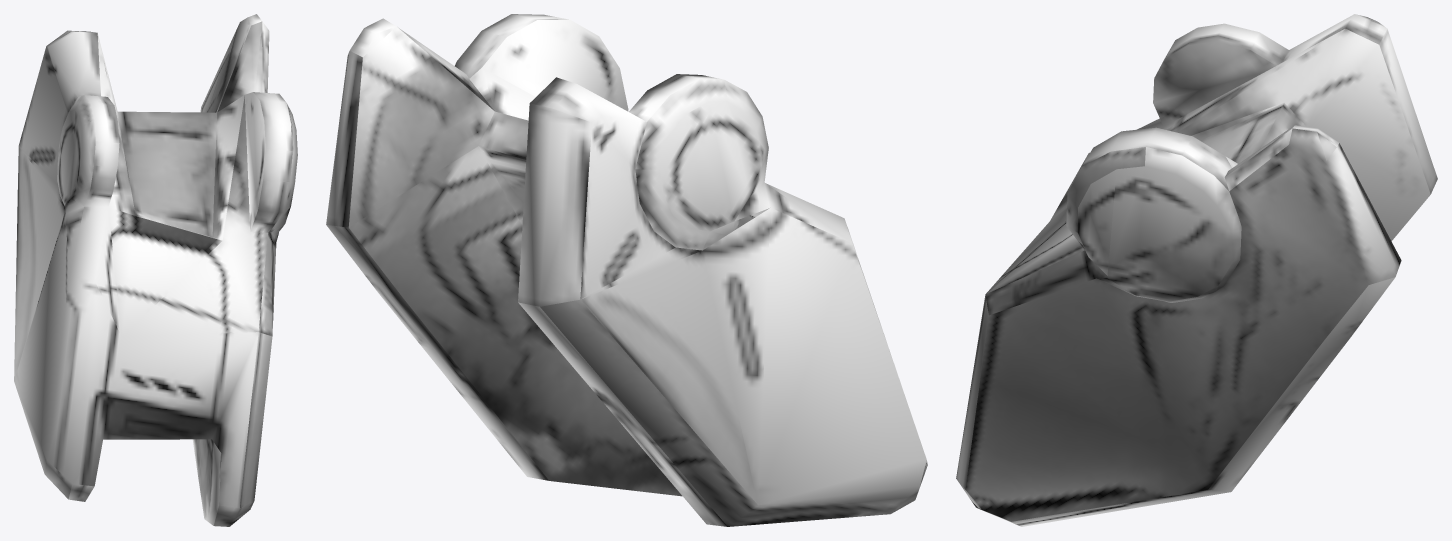
Rendered from r_meta.glb.
The picture shows the model from 3 angles, left to right: view 1: azimuth 30°, elevation 25°; view 2: azimuth 150°, elevation 25°; view 3: azimuth 270°, elevation 25°; orthographic projection. The views are drawn at different scales.
Parts seen in each view (by area): view 1: r_meta; view 2: r_meta; view 3: r_meta.
Part boxes in pixels (x1=…): r_meta: x1=14, y1=14, x2=297, y2=526; r_meta: x1=326, y1=14, x2=927, y2=526; r_meta: x1=956, y1=14, x2=1437, y2=526.
Bounding box in the file's own units: 0.6587 × 0.7985 × 0.6924.
3 materials, 3 textured.
